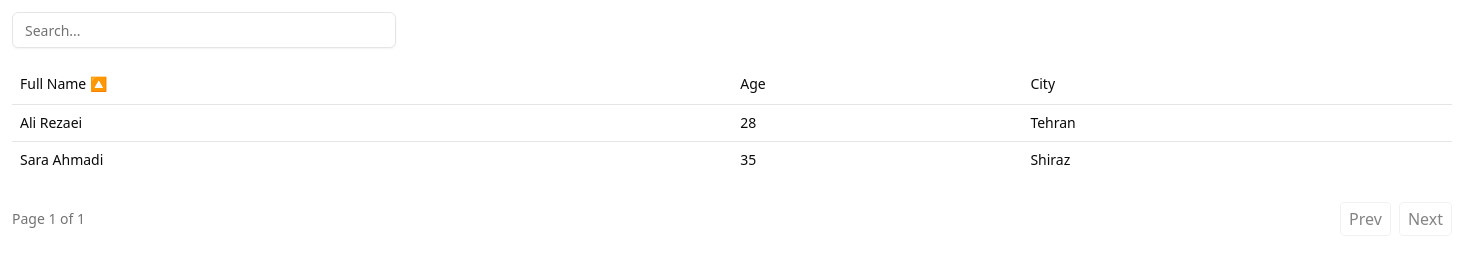
it: PrimaryTable › sorts data when header is clicked
اولین کلیک: نزولی (🔽)
Click the column heading "Full Name 🔼" at [53, 83], box x1=12 y1=64 x2=732 y2=104
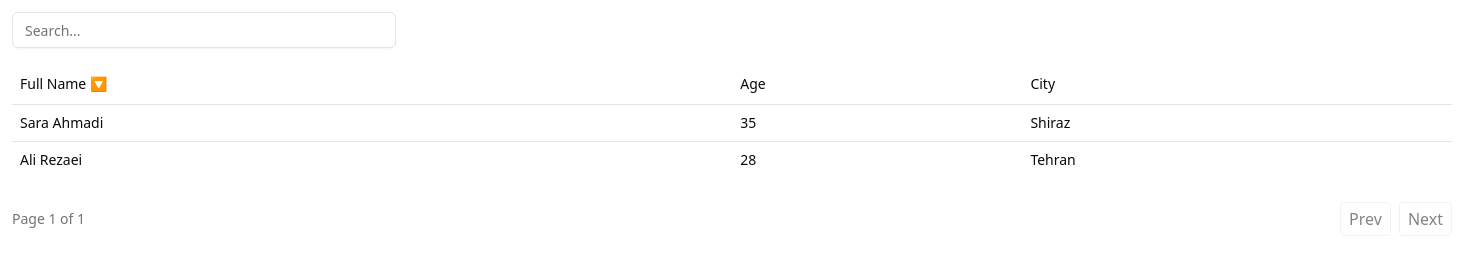
Result: the column heading "Full Name 🔽" is shown
دومین کلیک: صعودی (🔼)
Click the column heading "Full Name 🔽" at [53, 83], box x1=12 y1=64 x2=732 y2=104
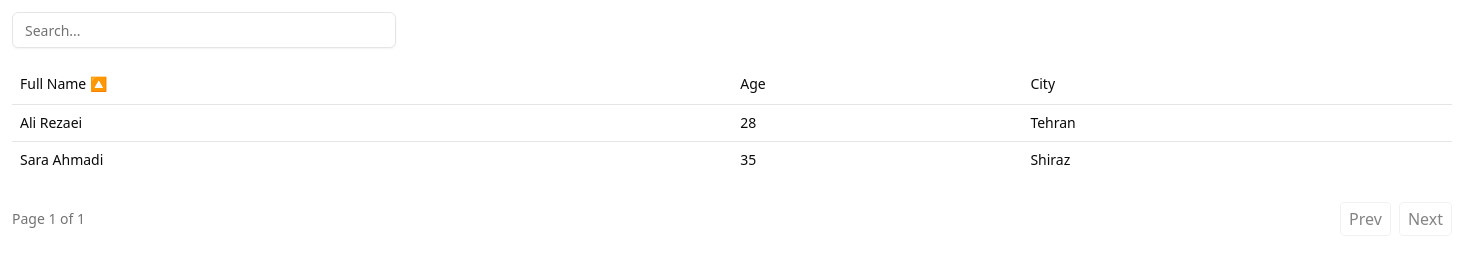
Result: the column heading "Full Name 🔼" is shown at x1=12 y1=64 x2=732 y2=104
